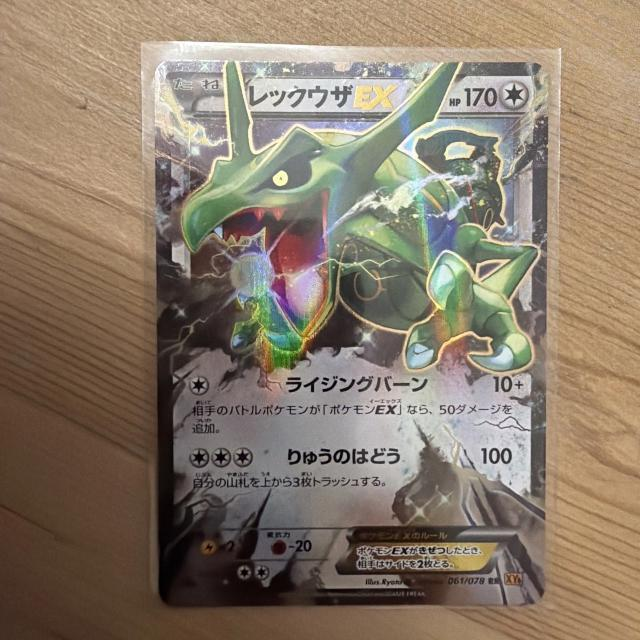Card: (147, 57, 552, 612)
Name: (241, 77, 399, 115)
